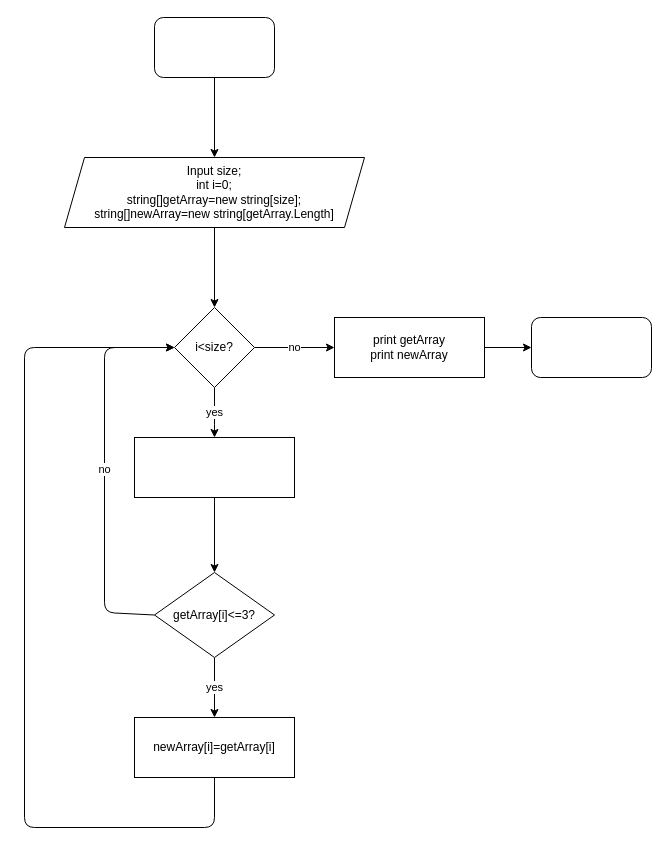
Some shapes in this 669 by 853 pixel diagram are drawn without their labels. The shapes that lost their labels are listed below. From the top down, each one's centre as x and y in pixels, then its label:
the point at 214,47: start
the point at 591,347: end
the point at 214,467: input array[i]; i++;
